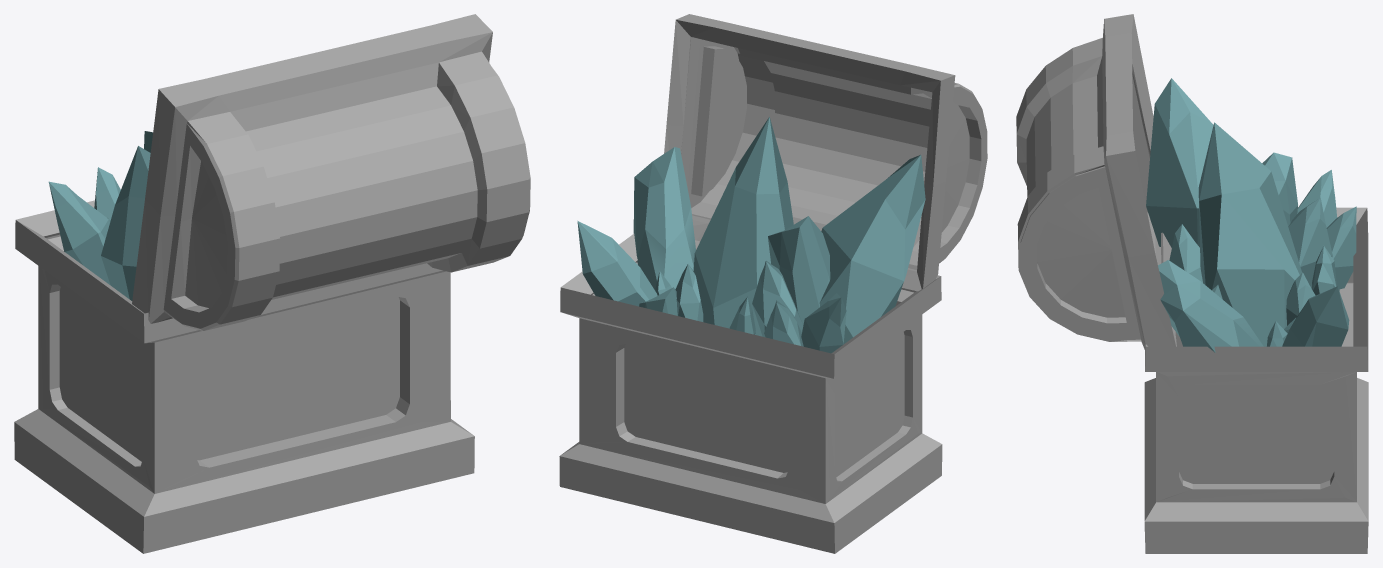
The picture shows the model from 3 angles, left to right: view 1: azimuth 30°, elevation 25°; view 2: azimuth 150°, elevation 25°; view 3: azimuth 270°, elevation 25°; orthographic projection. The views are drawn at different scales.
Visible parts, largest first — view 1: pCube2, pCone17; view 2: pCube2, pCone17; view 3: pCube2, pCone17.
Boxes of the visible parts, x1,y1,x2,y2 form: pCube2: [14, 14, 530, 553]; pCone17: [48, 131, 152, 300]; pCube2: [559, 14, 987, 553]; pCone17: [577, 117, 925, 353]; pCube2: [1016, 14, 1368, 553]; pCone17: [1146, 78, 1356, 352].
Bounding box in the file's own units: 4.09 × 5.25 × 4.15.
